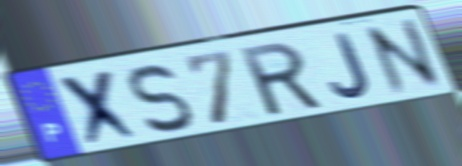7: (182, 47, 239, 128)
J: (328, 30, 375, 102)
N: (359, 15, 449, 100)
R: (235, 39, 327, 119)
S: (127, 61, 197, 136)
X: (54, 65, 146, 151)
